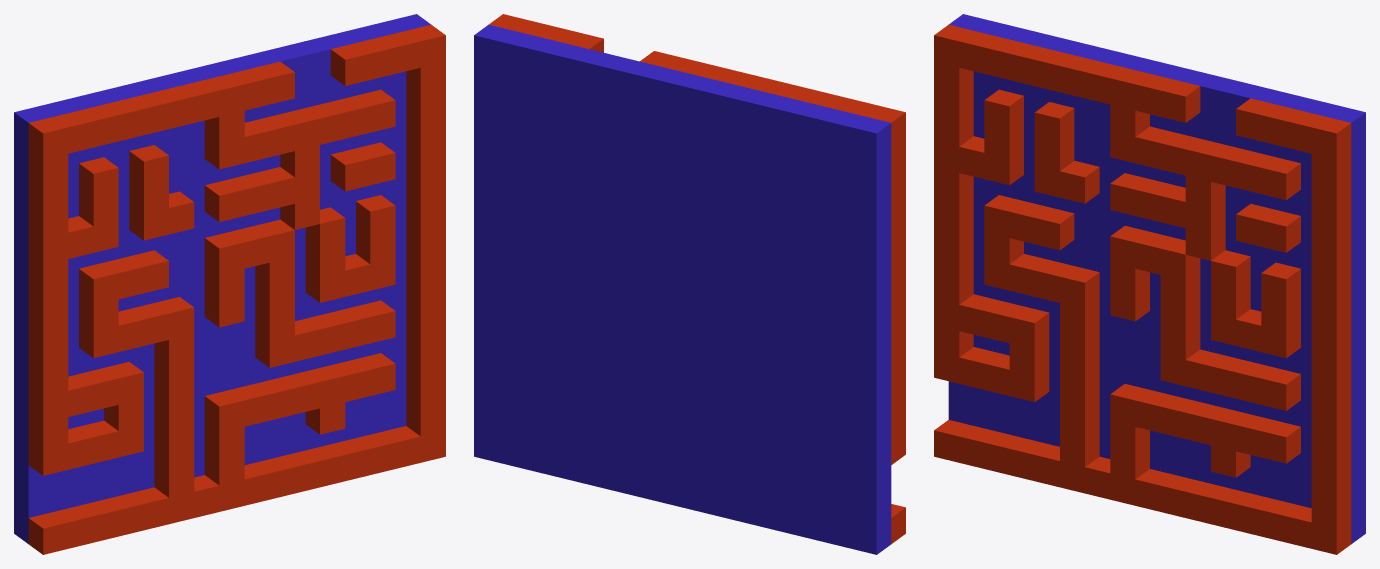
The picture shows the model from 3 angles, left to right: view 1: azimuth 30°, elevation 25°; view 2: azimuth 150°, elevation 25°; view 3: azimuth 330°, elevation 25°; orthographic projection.
Visible parts, largest first — view 1: Null, Null_15, Null_12, Null_6, Null_4, Null_10, Null_2, Null_8, Null_14, Null_7, Null_3, Null_11 (+4 smaller); view 2: Null, Null_1, Null_15, Null_12, Null_5, Null_4, Null_3, Null_11, Null_10, Null_9, Null_8, Null_7 (+4 smaller); view 3: Null, Null_15, Null_12, Null_6, Null_2, Null_4, Null_10, Null_8, Null_14, Null_7, Null_3, Null_11 (+4 smaller).
Boxes of the visible parts, x1,y1,x2,y2 form: Null: [14, 14, 445, 159]; Null_15: [14, 426, 445, 554]; Null_12: [14, 347, 445, 475]; Null_6: [14, 189, 445, 317]; Null_4: [14, 136, 445, 264]; Null_10: [14, 294, 445, 423]; Null_2: [14, 83, 445, 212]; Null_8: [14, 241, 445, 370]; Null_14: [14, 399, 445, 517]; Null_7: [14, 215, 445, 344]; Null_3: [14, 110, 445, 238]; Null_11: [14, 320, 445, 449]; Null: [474, 14, 905, 159]; Null_1: [474, 61, 905, 185]; Null_15: [474, 430, 905, 554]; Null_12: [474, 351, 905, 475]; Null_5: [474, 167, 905, 291]; Null_4: [474, 140, 905, 264]; Null_3: [474, 114, 905, 238]; Null_11: [474, 325, 905, 449]; Null_10: [474, 298, 905, 423]; Null_9: [474, 272, 905, 396]; Null_8: [474, 246, 905, 370]; Null_7: [474, 219, 905, 344]; Null: [934, 14, 1365, 159]; Null_15: [934, 420, 1365, 554]; Null_12: [934, 347, 1365, 475]; Null_6: [934, 189, 1365, 317]; Null_2: [934, 83, 1365, 212]; Null_4: [934, 136, 1365, 264]; Null_10: [934, 294, 1365, 423]; Null_8: [934, 241, 1365, 370]; Null_14: [948, 393, 1365, 528]; Null_7: [934, 215, 1365, 344]; Null_3: [934, 110, 1365, 238]; Null_11: [934, 325, 1365, 449].
Size of the model in its own units: 970 by 970 by 121.
